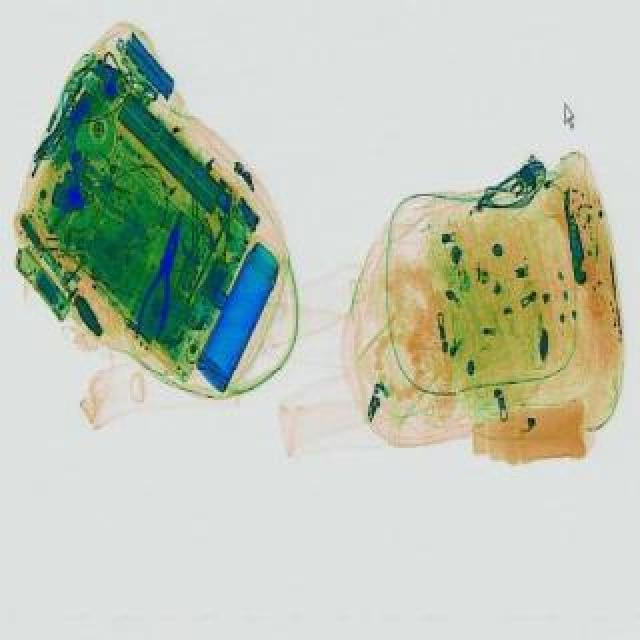wrench: (132, 208, 192, 342)
